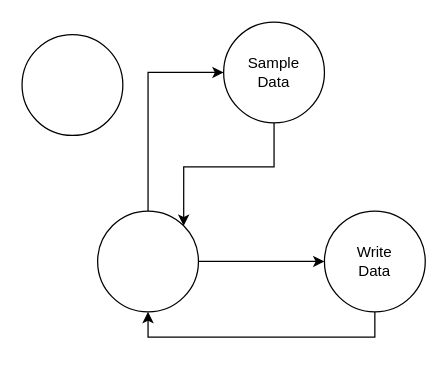
Some shapes in this 447 by 369 pixel diagram are drawn without their labels. Here are the shapes that lost their labels. From the top down, the box of each, then its label:
(21, 33, 123, 135): Calibrate
(96, 210, 198, 312): Wait
